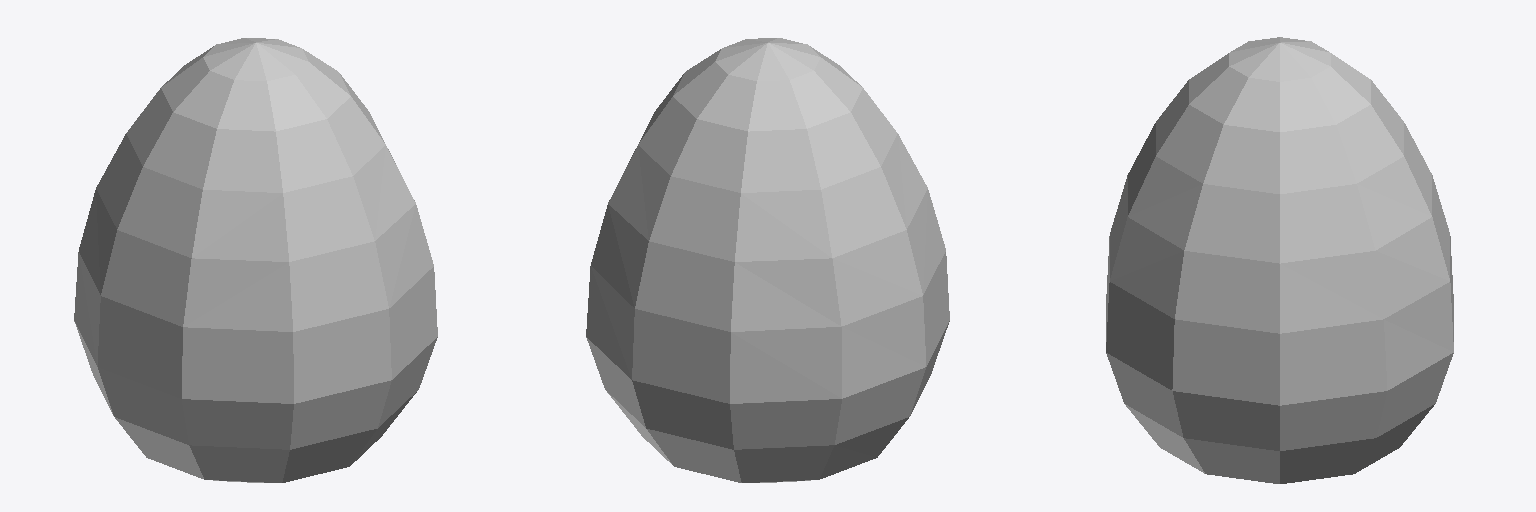
File: egg.obj
The picture shows the model from 3 angles: view 1: azimuth 30°, elevation 25°; view 2: azimuth 150°, elevation 25°; view 3: azimuth 270°, elevation 25°; orthographic projection.
Visible parts, largest first — view 1: drg_egg_fixed_0; view 2: drg_egg_fixed_0; view 3: drg_egg_fixed_0.
Boxes of the visible parts, x1,y1,x2,y2 form: drg_egg_fixed_0: [74, 38, 437, 482]; drg_egg_fixed_0: [586, 38, 949, 482]; drg_egg_fixed_0: [1106, 37, 1453, 483].
Size of the model in its own units: 1.49 by 1.92 by 1.42.